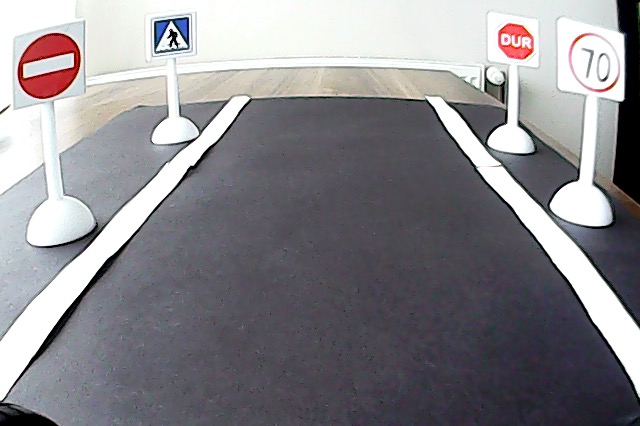do not enter: (14, 28, 83, 104)
pedestrian crossing: (148, 11, 196, 58)
speed limit 70: (566, 29, 623, 96)
stop sign: (492, 16, 540, 65)
